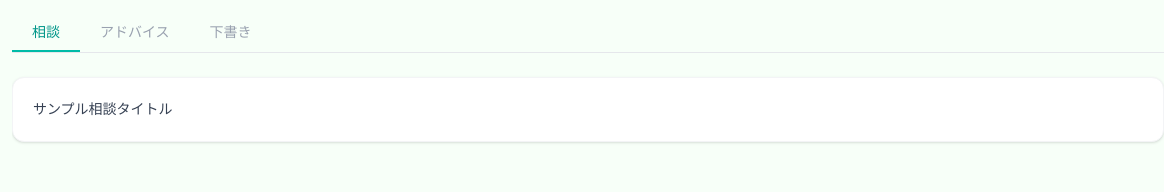
Scenario: UserContentTabs 投稿チェック状態バッジ(#179) › アドバイスタブ: 投稿チェック中(pending)は「投稿チェック中」バッジを出す
Step 1. Click the button "アドバイス" → (135, 32), box x1=80 y1=12 x2=190 y2=52
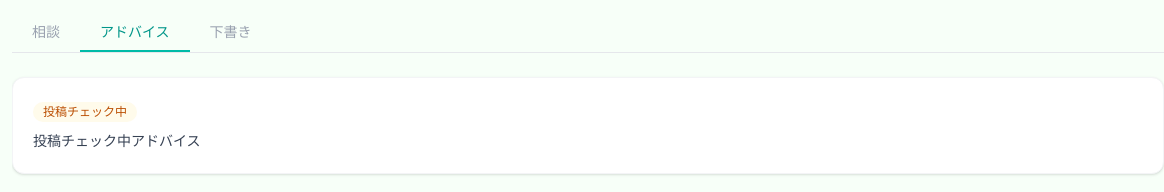
Expected: the text "投稿チェック中" is shown, x1=33 y1=102 x2=137 y2=122
